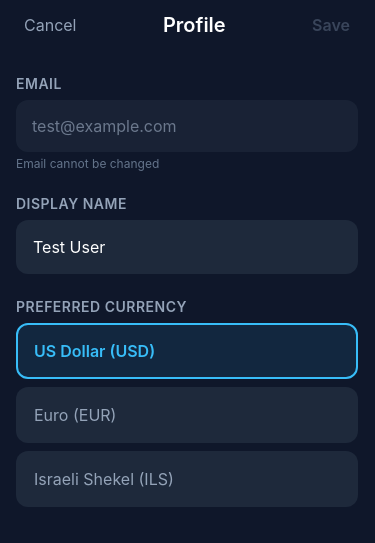
Test case: ProfileScreen › Validation › clears error when valid name is entered
Clear the field with test id "profile.displayNameInput" at (187, 247), box [16, 220, 358, 274]
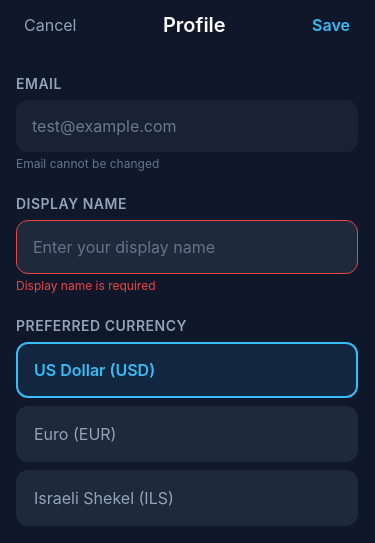
Result: the text "Display name is required" is shown at [16, 278, 156, 293]
Type "Valid Name" into the field with test id "profile.displayNameInput" at (187, 247), box [16, 220, 358, 274]
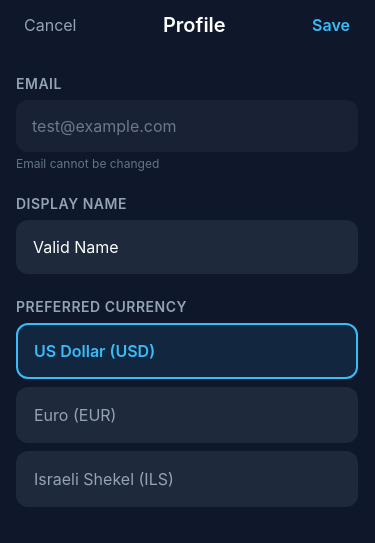
Result: the text "Display name is required" is gone
